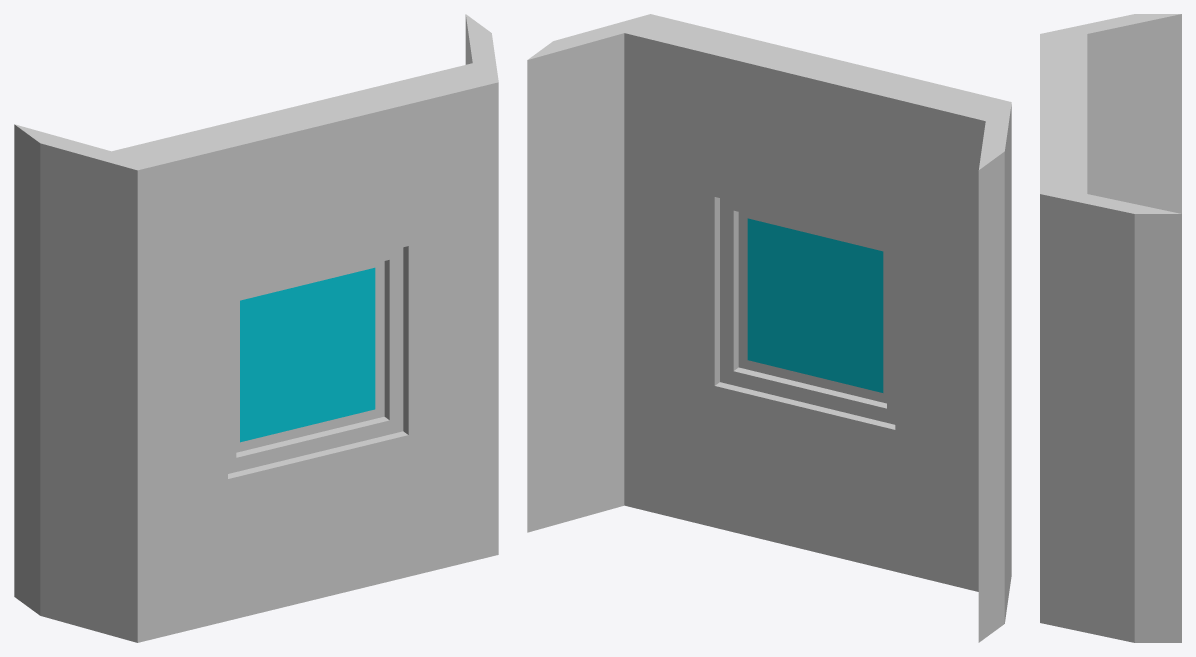
Rendered from window_bay_4_small.glb.
The picture shows the model from 3 angles, left to right: view 1: azimuth 30°, elevation 25°; view 2: azimuth 150°, elevation 25°; view 3: azimuth 270°, elevation 25°; orthographic projection. The views are drawn at different scales.
Parts seen in each view (by area): view 1: window_bay_4_small; view 2: window_bay_4_small; view 3: window_bay_4_small.
Boxes of the visible parts, x1,y1,x2,y2 form: window_bay_4_small: (14,14,498,642); window_bay_4_small: (527,14,1011,642); window_bay_4_small: (1040,14,1181,642).
Bounding box in the file's own units: 1 × 1 × 0.3.
